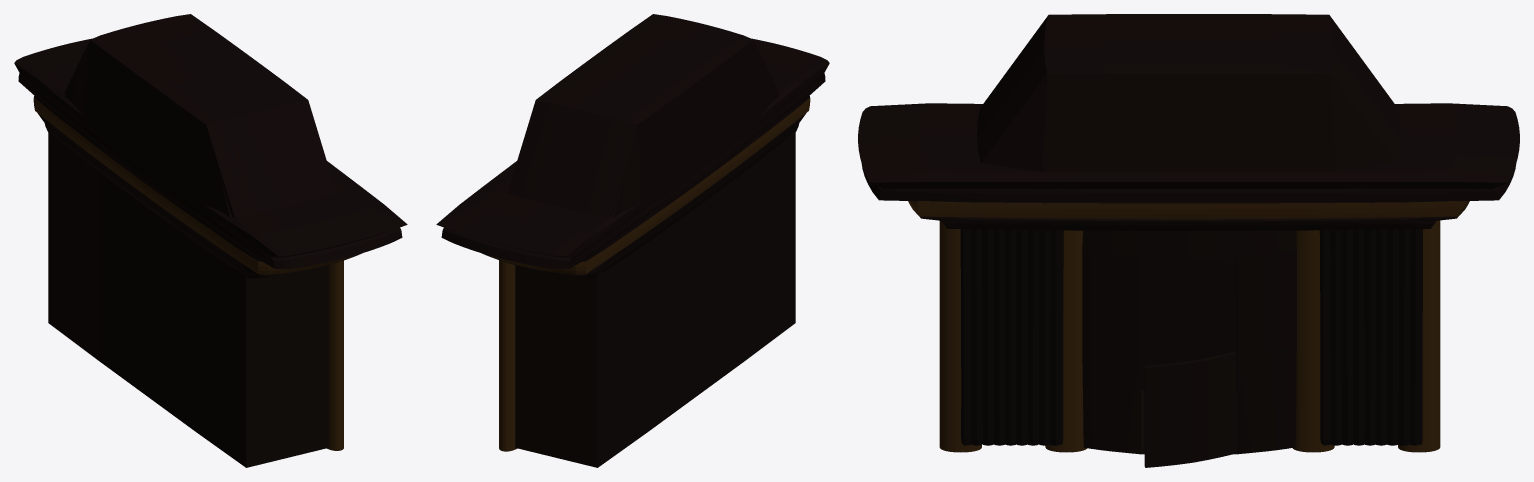
Rendered from kabin.fbx.
3 renders of one model, left to right at view 1: azimuth 30°, elevation 25°; view 2: azimuth 150°, elevation 25°; view 3: azimuth 270°, elevation 25°, orthographic. The views are drawn at different scales.
Visible parts, largest first — view 1: kabin; view 2: kabin; view 3: kabin.
Boxes of the visible parts, x1=… form: kabin: x1=14, y1=14, x2=407, y2=467; kabin: x1=436, y1=14, x2=829, y2=467; kabin: x1=858, y1=14, x2=1519, y2=467.
Size of the model in its own units: 407 by 894 by 1399.
